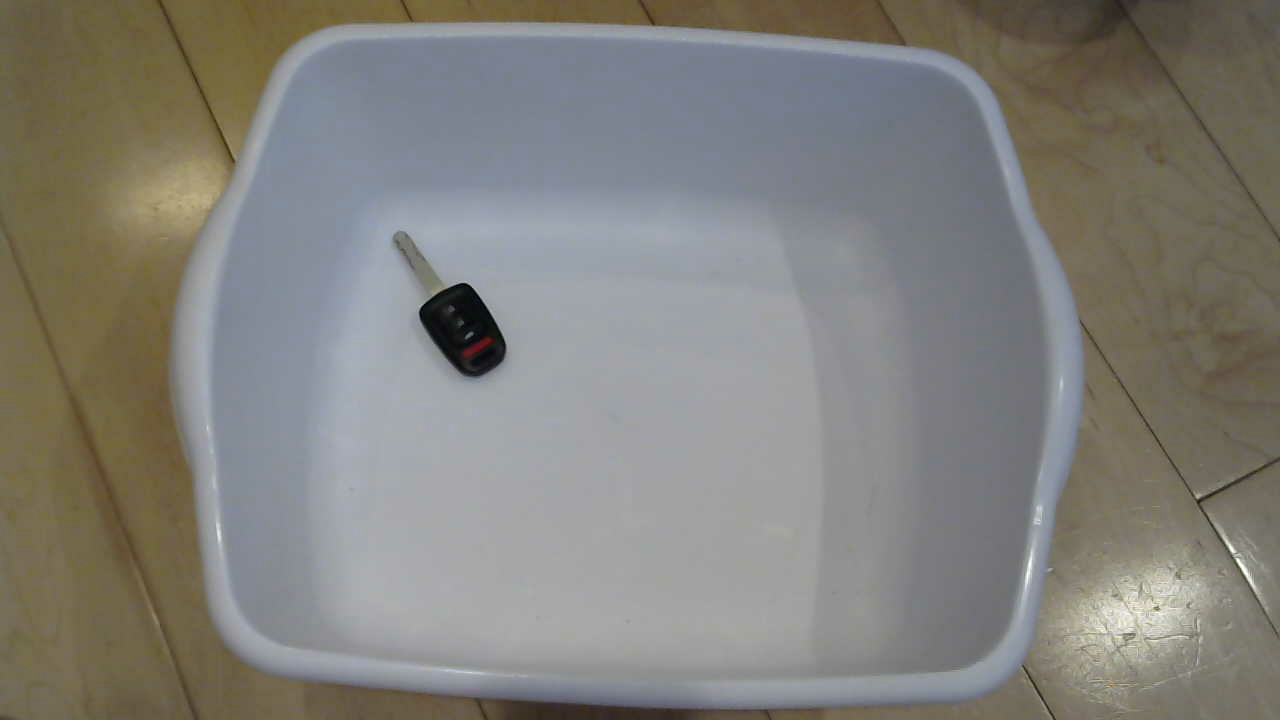key: (366, 221, 520, 395)
